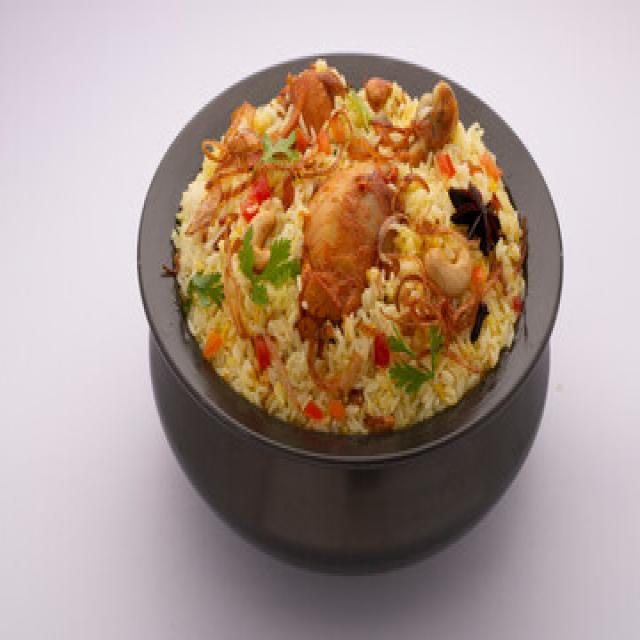BIRIYANI: (165, 59, 526, 432)
